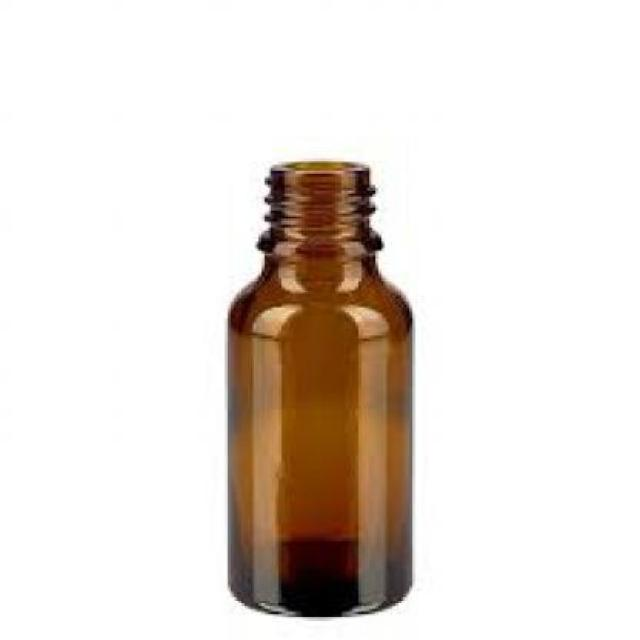kaca: (225, 163, 412, 615)
